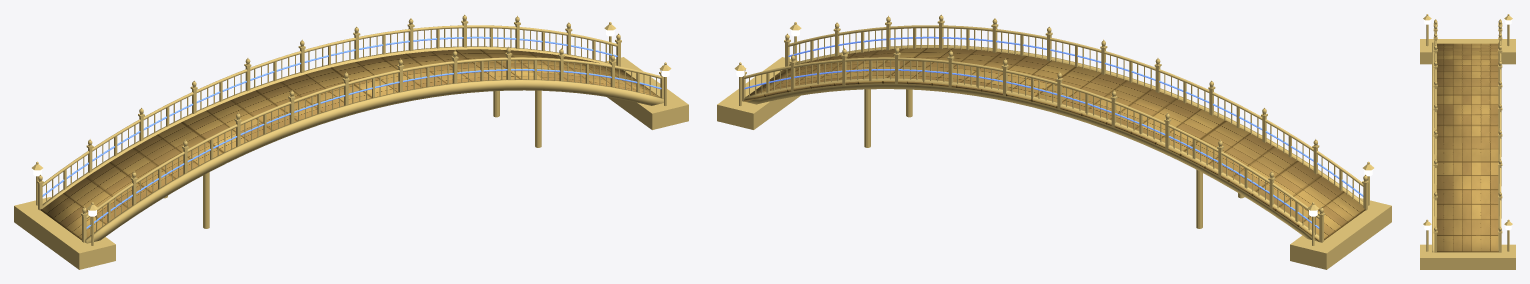
The model's file is bridge_long.glb.
3 renders of one model, left to right at view 1: azimuth 30°, elevation 25°; view 2: azimuth 150°, elevation 25°; view 3: azimuth 270°, elevation 25°, orthographic. The views are drawn at different scales.
Parts seen in each view (by area): view 1: deck, girder, abutment, girder.001, rail.002, rail, abutment.001, rail.003, rail.001, Cylinder.166; view 2: deck, girder.001, abutment, rail, rail.002, abutment.001, girder, rail.001, rail.003, Cylinder.167, Cylinder.165; view 3: deck, abutment.001, abutment, girder, rail, rail.002, girder.001.
Boxes of the visible parts, x1,y1,x2,y2 form: deck: (40,49,659,240); girder: (85,79,663,243); abutment: (14,197,115,269); girder.001: (41,46,617,208); rail.002: (42,25,617,186); rail: (86,57,661,218); abutment.001: (604,57,688,129); rail.003: (42,36,617,196); rail.001: (86,69,661,228); Cylinder.166: (535,90,541,147); deck: (744,48,1365,241); girder.001: (744,78,1319,241); abutment: (1290,197,1391,269); rail: (788,25,1363,186); rail.002: (744,57,1319,218); abutment.001: (717,57,800,129); girder: (789,45,1363,205); rail.001: (788,36,1363,196); rail.003: (744,69,1319,228); Cylinder.167: (864,89,870,147); Cylinder.165: (1196,170,1202,228); deck: (1436,43,1498,252); abutment.001: (1420,244,1515,269); abutment: (1420,39,1515,64); girder: (1432,42,1434,252); rail: (1434,32,1436,226); rail.002: (1499,32,1501,226); girder.001: (1498,42,1499,251).
Size of the model in its own units: 23.2 by 4.47 by 4.3.
4 materials, 1 textured.
